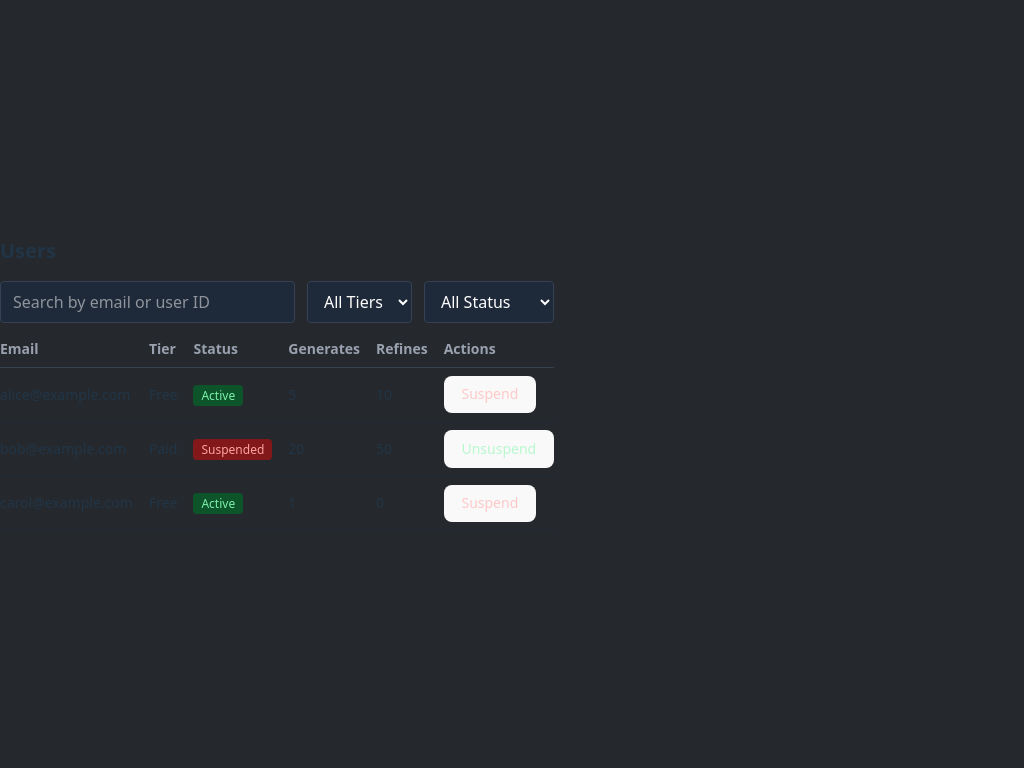
Test: AdminUsers › opens user detail panel when clicking a user row
The image size is (1024, 768).
Expected: the text "alice@example.com" is shown, [0,385,130,404]
Click the text "alice@example.com": click(277, 394) [0,367,554,422]
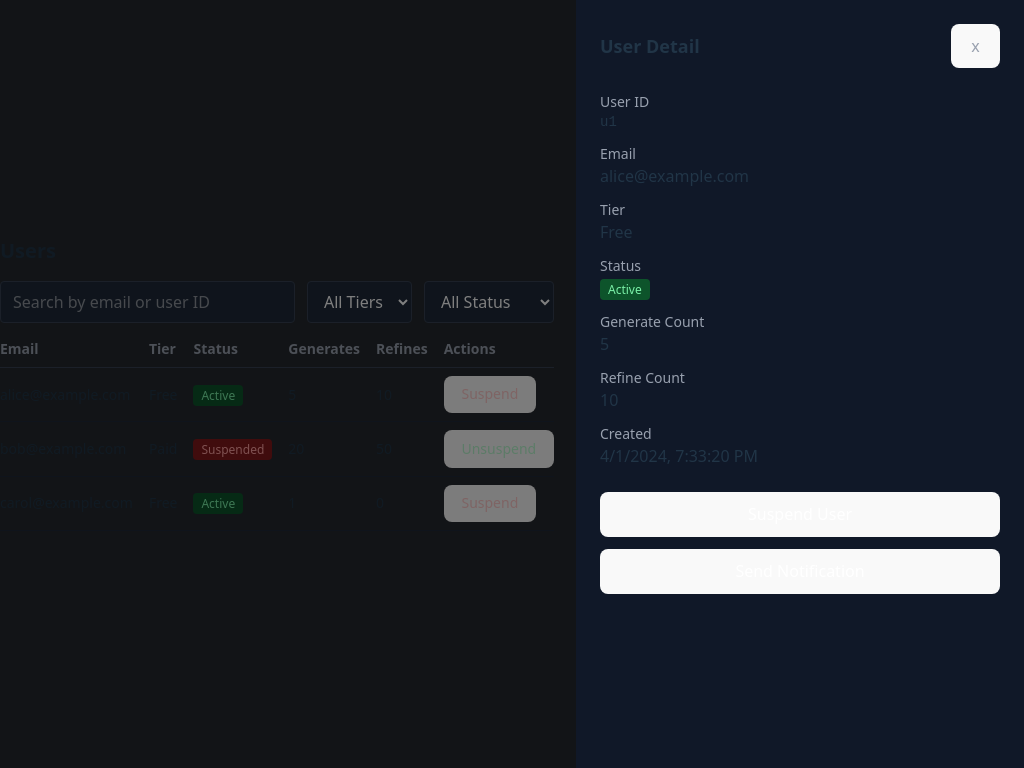
Expected: the heading "User Detail" is shown, [600,32,700,60]
